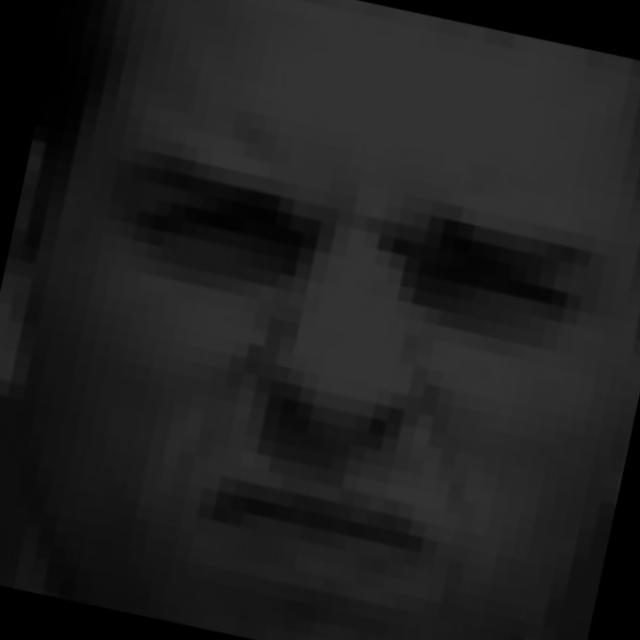Disgust: (13, 82, 636, 617)
